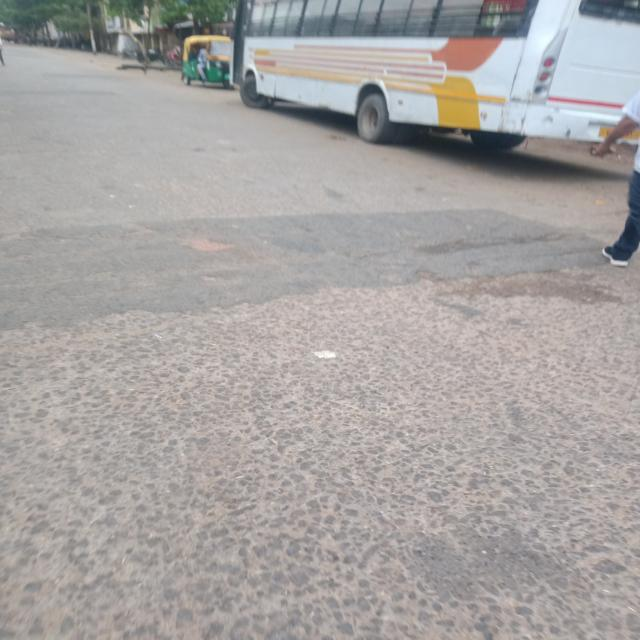Auto: (182, 35, 232, 89)
Bus: (232, 0, 640, 149)
